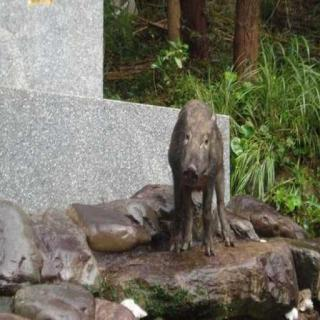Pig: (152, 81, 240, 265)
